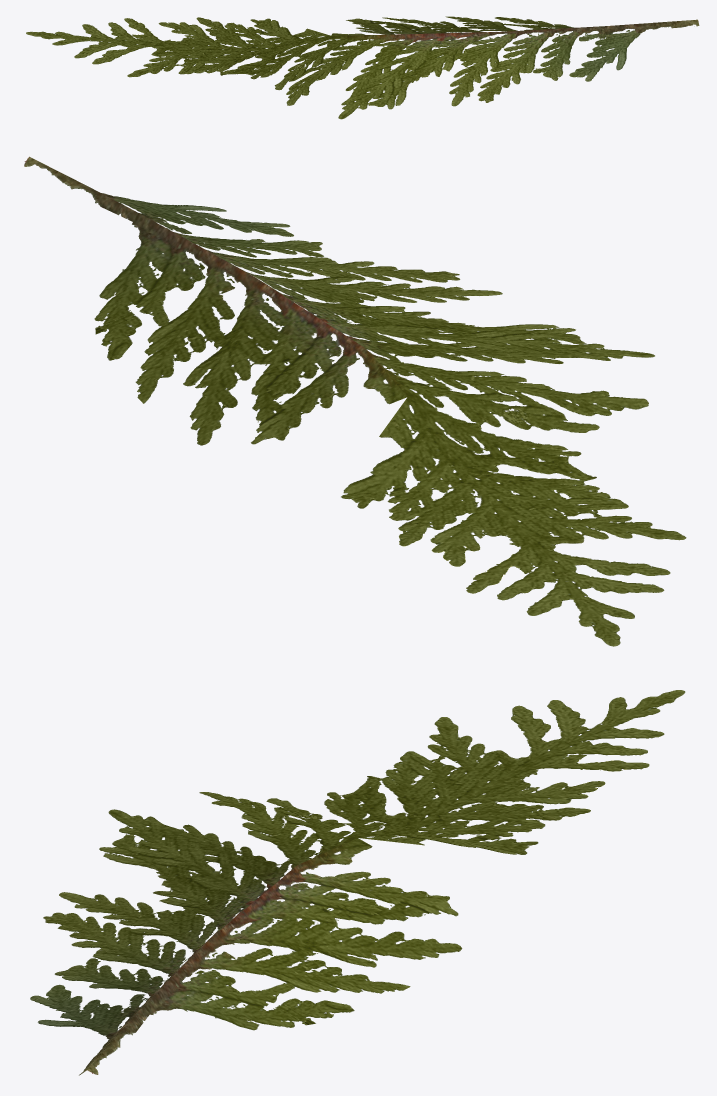
Rendered from PNW Plant_Sword Fern_Small_1k.glb.
3 views of the same model, one above another, from view 1: azimuth 30°, elevation 25°; view 2: azimuth 150°, elevation 25°; view 3: azimuth 270°, elevation 25° (orthographic). The views are drawn at different scales.
Parts seen in each view (by area): view 1: Plant_Tree_Branch_1k; view 2: Plant_Tree_Branch_1k; view 3: Plant_Tree_Branch_1k.
Part boxes in pixels (<box>): Plant_Tree_Branch_1k: <box>26,16,699,119</box>; Plant_Tree_Branch_1k: <box>24,156,686,646</box>; Plant_Tree_Branch_1k: <box>30,690,685,1075</box>.
Size of the model in its own units: 0.4624 by 0.0267 by 0.3181.
Materials: 1 (1 with a texture image).
